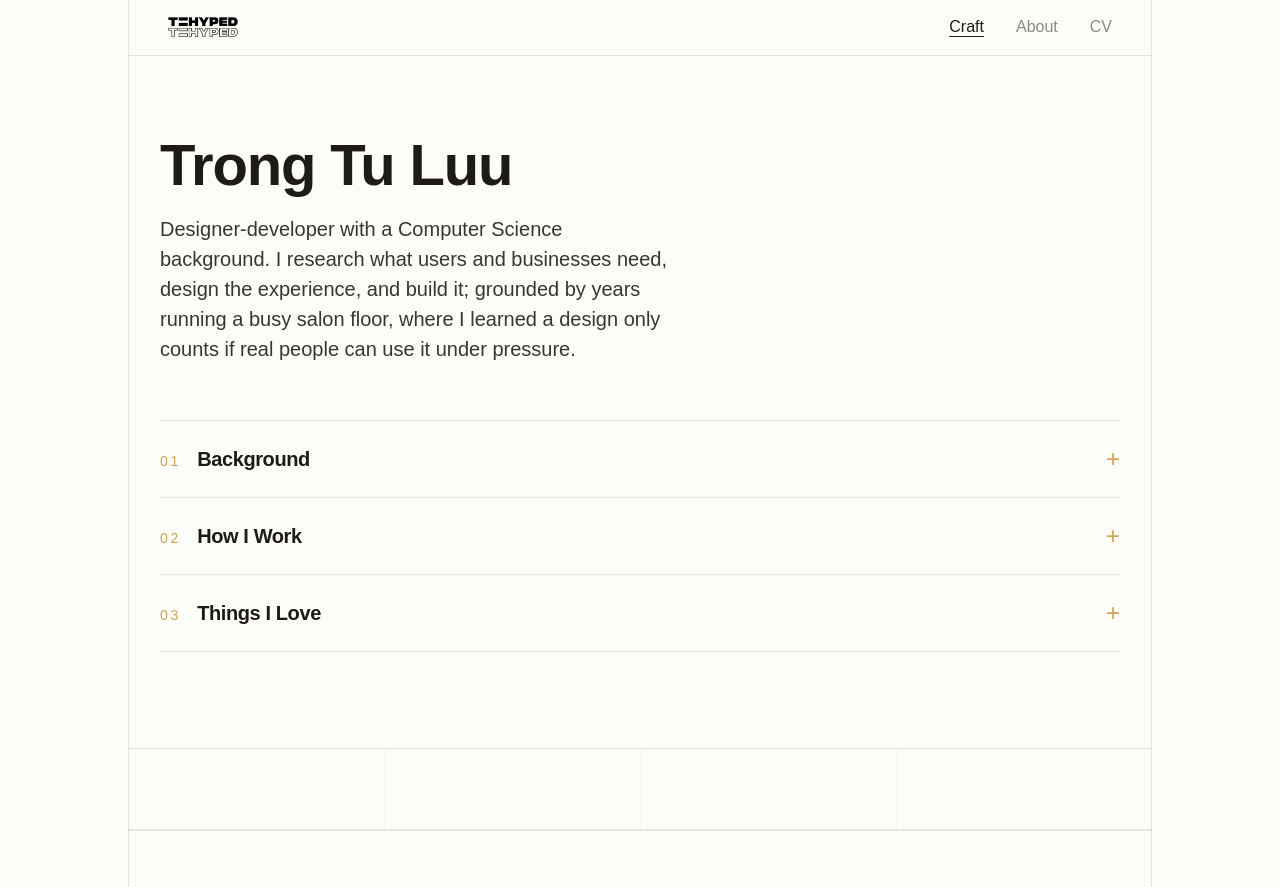
About accordion › clicking an open section hides its content again
Click the button "01 Background +".
click(254, 459)  # box [160, 421, 1120, 497]
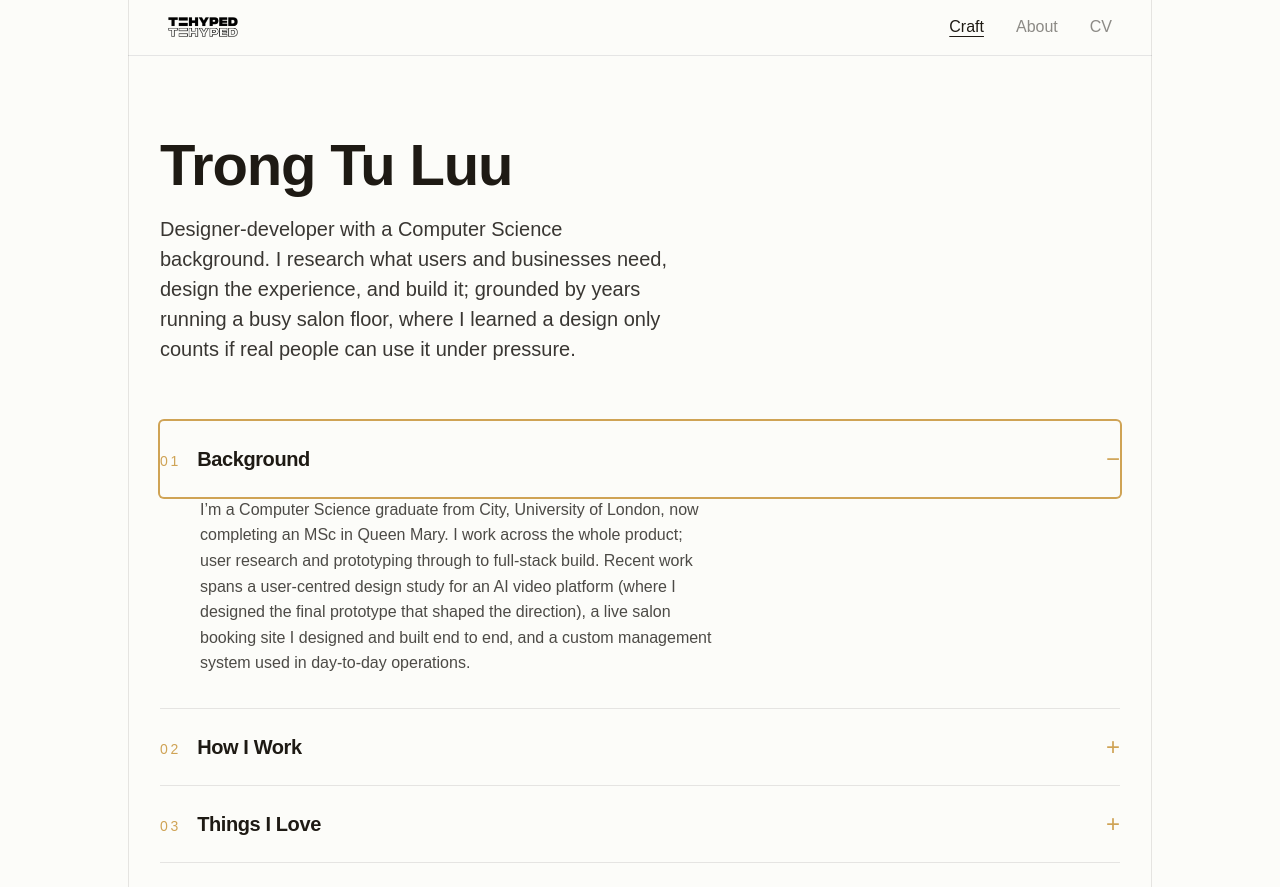
Check: the text "MSc in Queen Mary" is shown, box [200, 501, 712, 671]
Click the button "01 Background −".
click(254, 459)  # box [160, 421, 1120, 497]
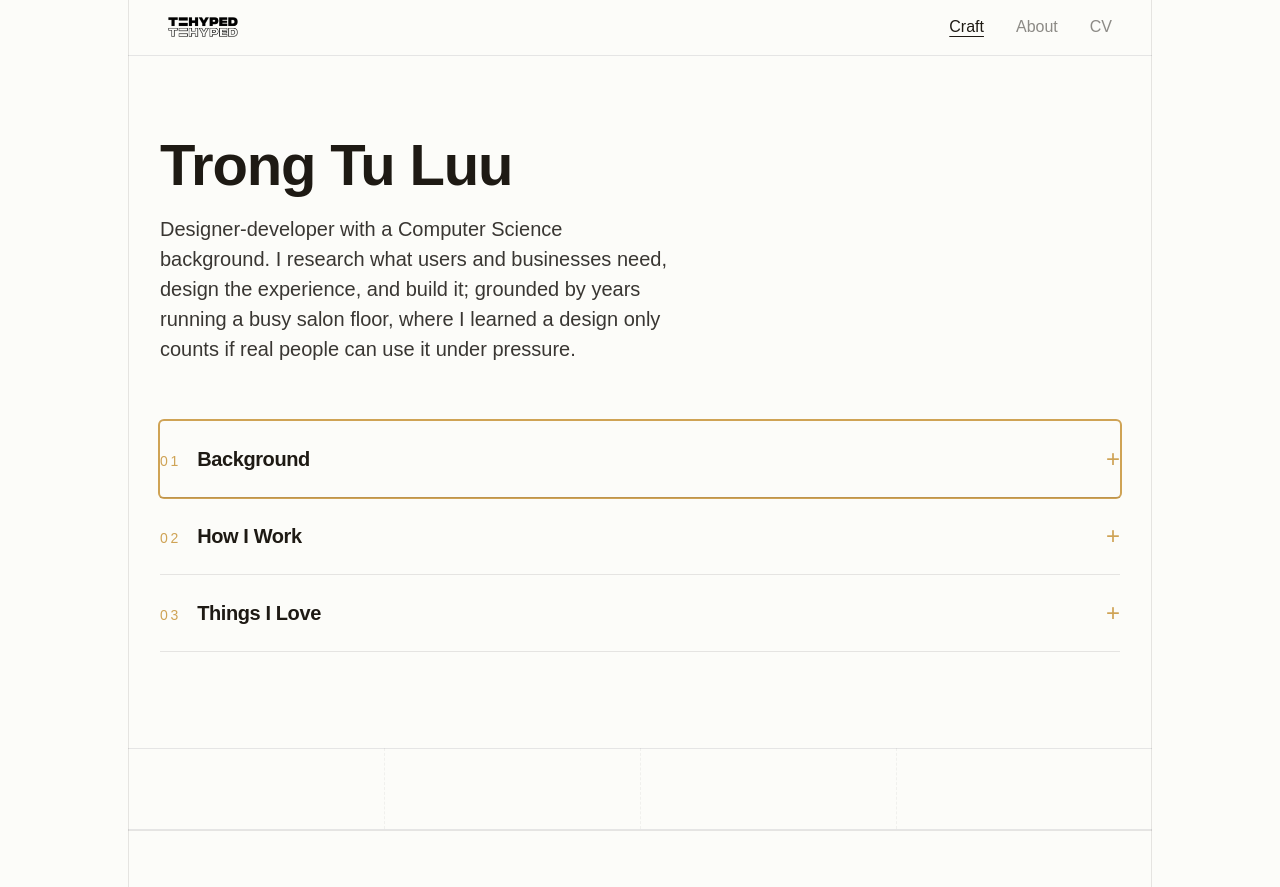
Check: the text "MSc in Queen Mary" is gone
